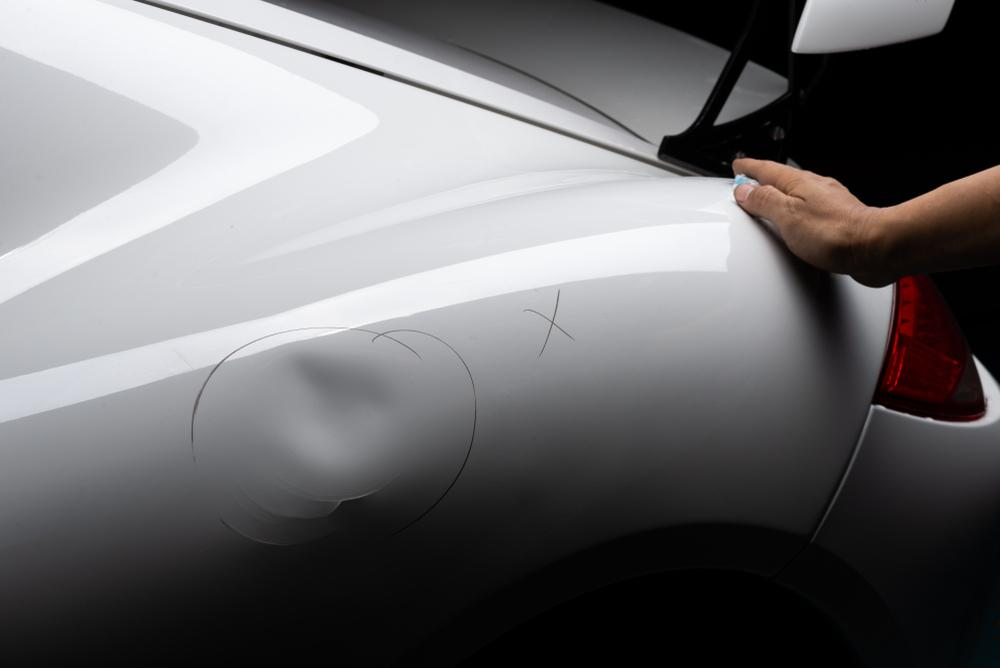dent: (257, 352, 402, 471)
